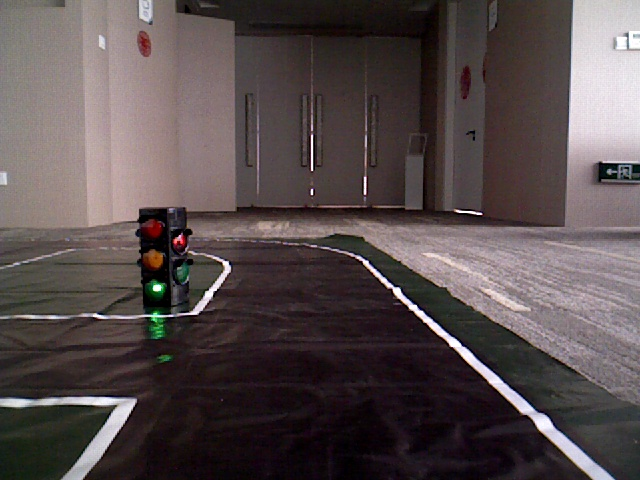green: (137, 209, 172, 305)
